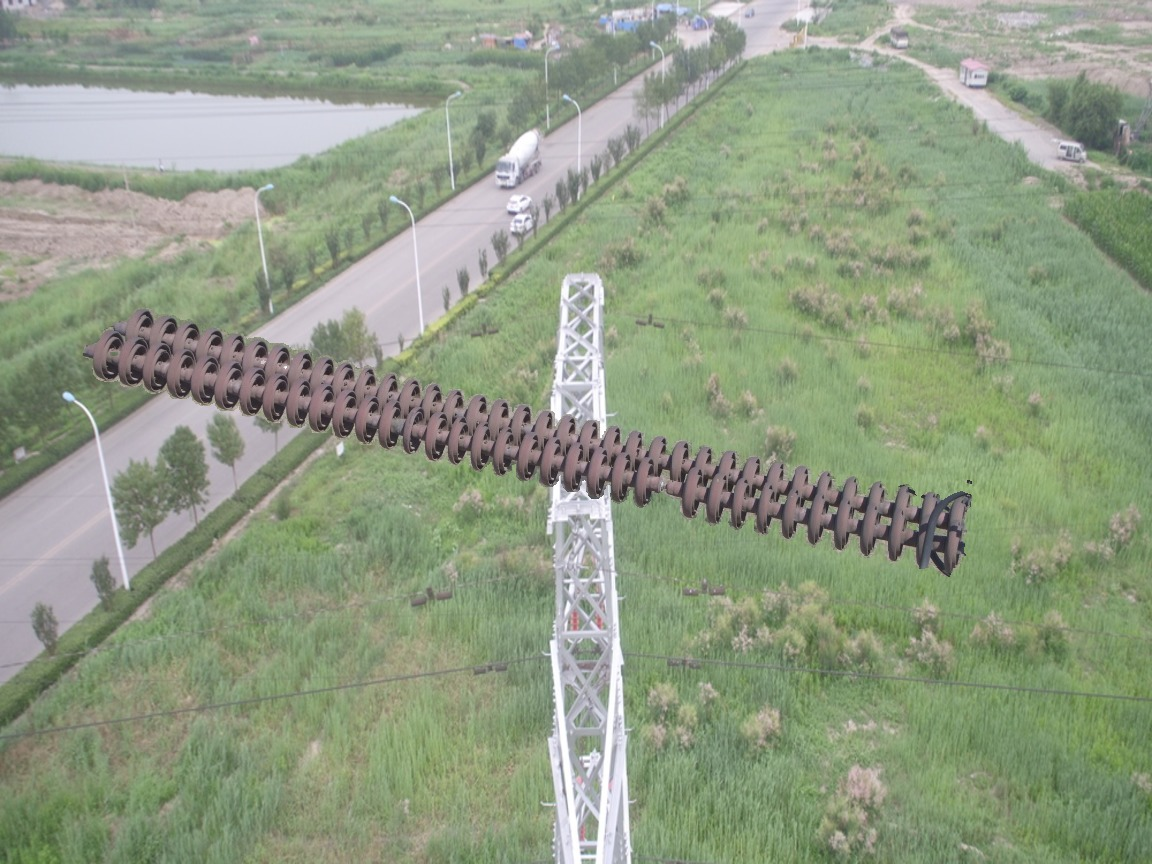defect: (629, 457, 706, 521)
